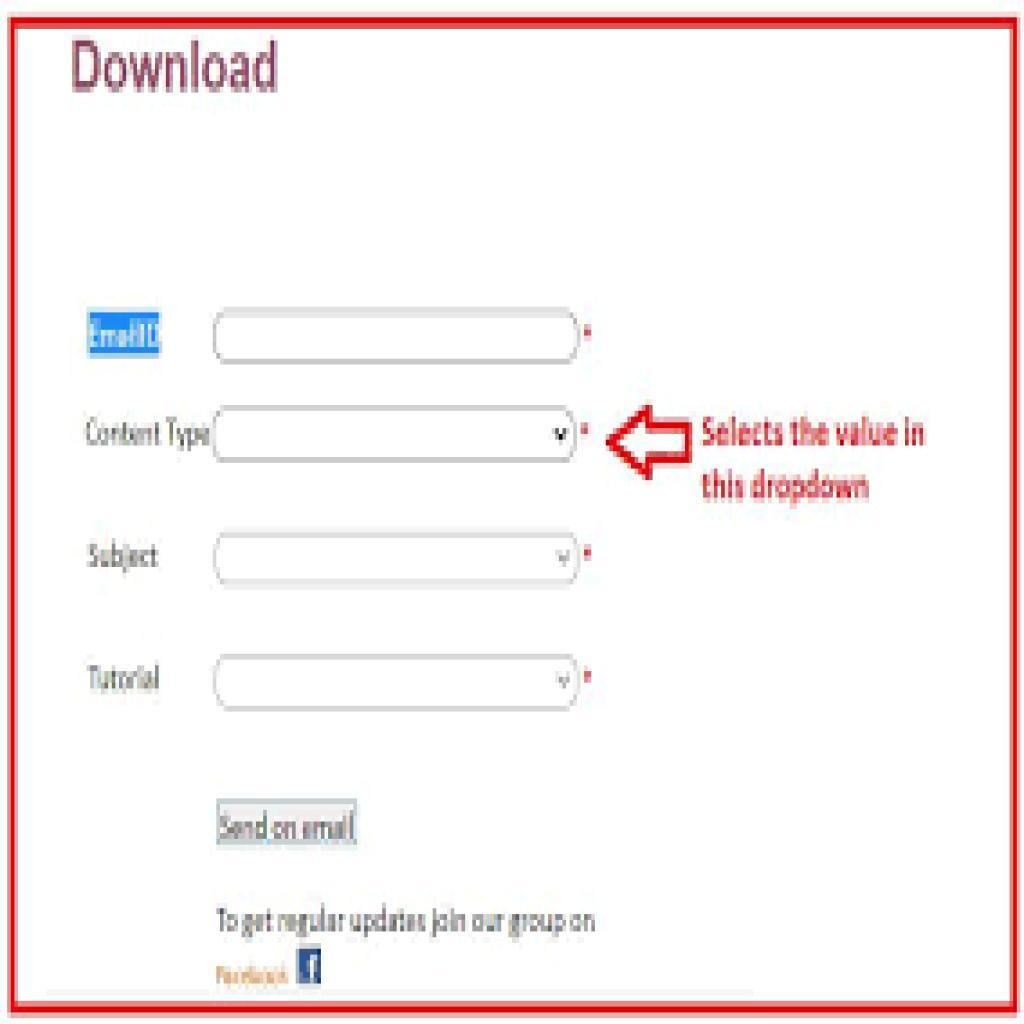button: (217, 798, 357, 845)
dropdown: (214, 531, 583, 590), (212, 655, 581, 714), (212, 408, 581, 465)
input: (209, 306, 584, 366)
